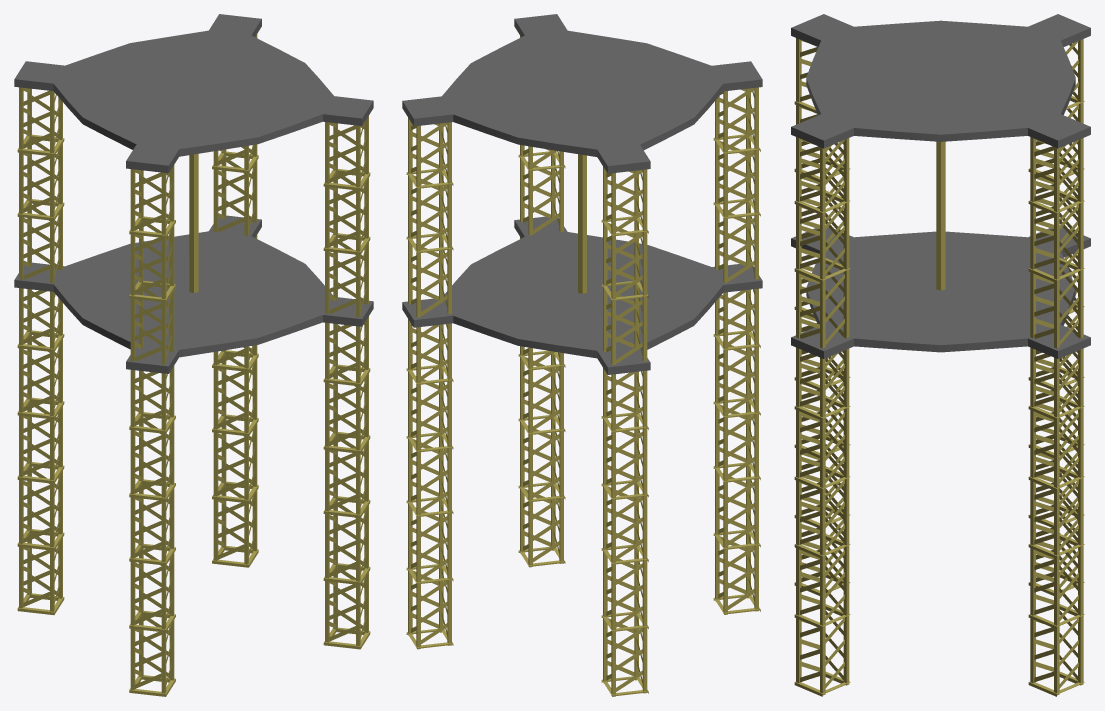
Rendered from Platform.fbx.
3 renders of one model, left to right at view 1: azimuth 30°, elevation 25°; view 2: azimuth 150°, elevation 25°; view 3: azimuth 270°, elevation 25°, orthographic. The views are drawn at different scales.
Visible parts, largest first — view 1: Platform; view 2: Platform; view 3: Platform.
Part boxes in pixels (x1,y1,x2,y2): Platform: (14,14,373,696); Platform: (402,14,762,696); Platform: (791,14,1090,696).
Bounding box in the file's own units: 18.18 × 37.37 × 18.18.
